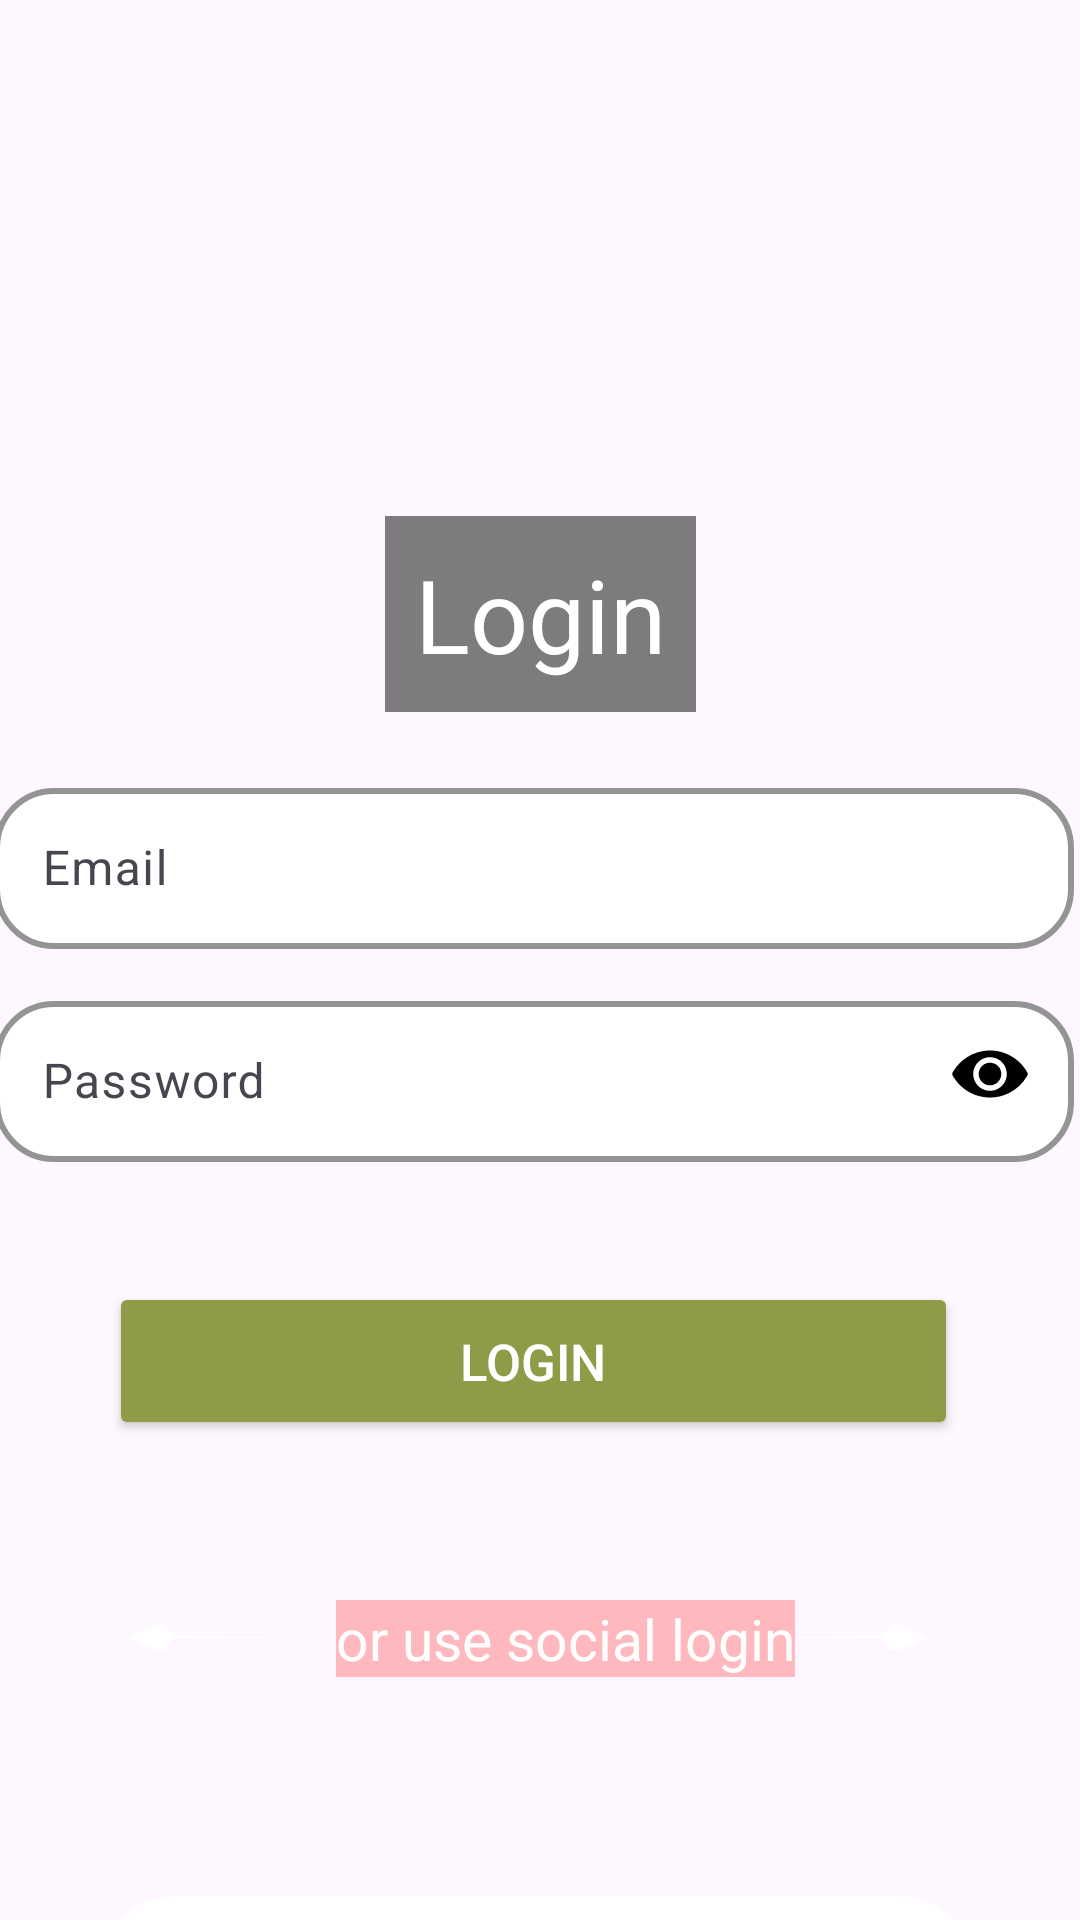

Where to tap for icons on this 1080×1920 app screen, as (x,y):
visiblepass: (990,1074)
